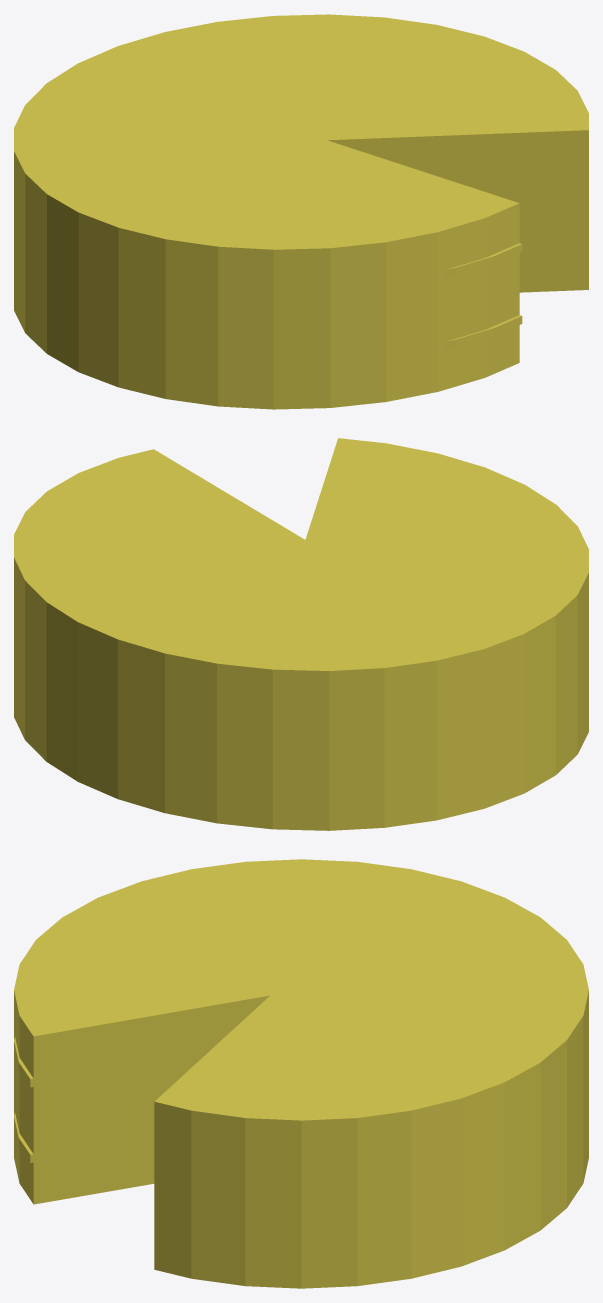
The model's file is mango.glb.
The picture shows the model from 3 angles, top to bottom: view 1: azimuth 30°, elevation 25°; view 2: azimuth 150°, elevation 25°; view 3: azimuth 270°, elevation 25°; orthographic projection. The views are drawn at different scales.
Parts seen in each view (by area): view 1: Mesh_Mesh_head_geo.001_lambert2SG.001; view 2: Mesh_Mesh_head_geo.001_lambert2SG.001; view 3: Mesh_Mesh_head_geo.001_lambert2SG.001.
Boxes of the visible parts, <box> form: Mesh_Mesh_head_geo.001_lambert2SG.001: <box>14,14,588,409</box>; Mesh_Mesh_head_geo.001_lambert2SG.001: <box>14,438,588,830</box>; Mesh_Mesh_head_geo.001_lambert2SG.001: <box>14,859,588,1288</box>.
Size of the model in its own units: 100 by 30 by 93.
